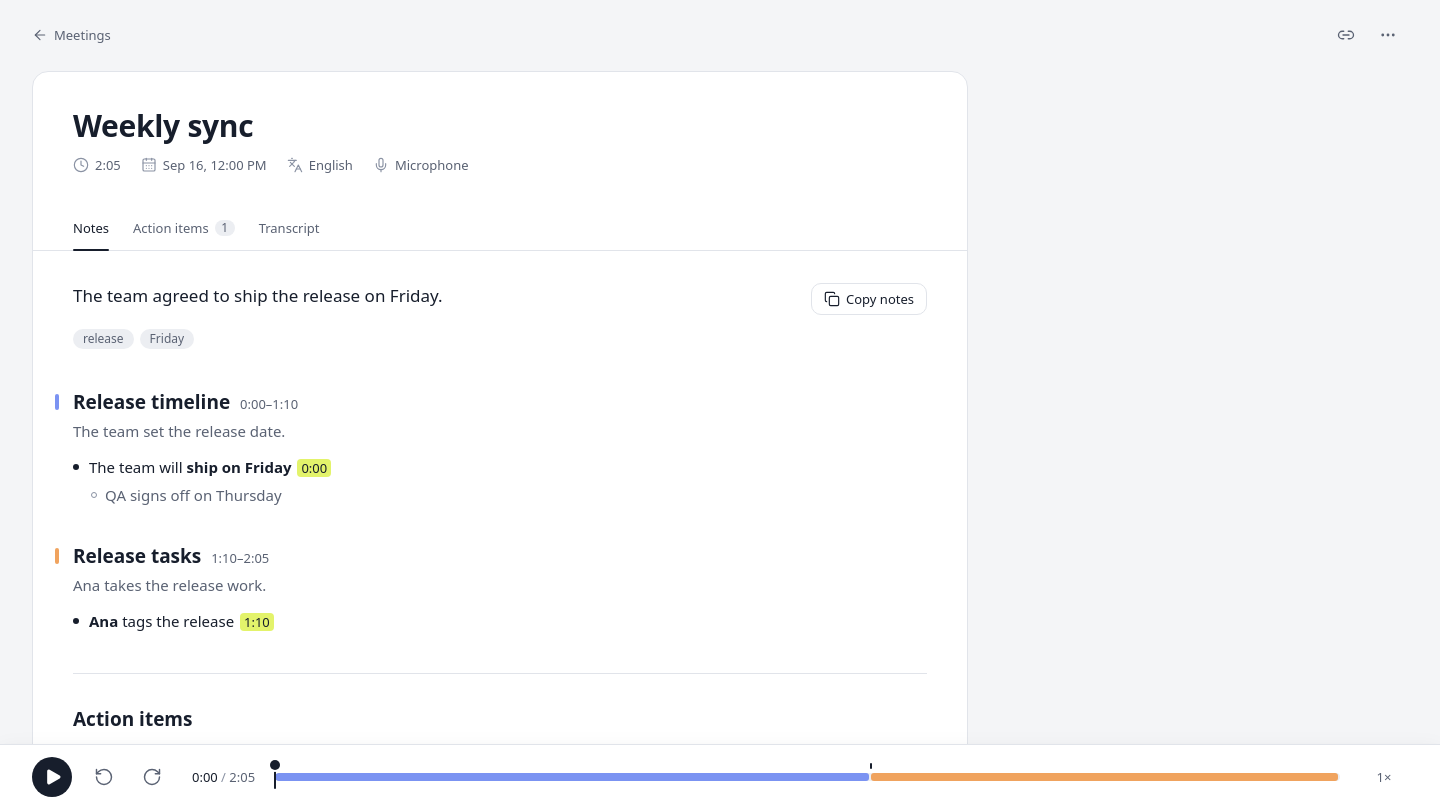
Test: MeetingPage › tabs › switches between notes, action items and the transcript
Click the tab "Action items 1" at x=184, y=228, box [133, 206, 235, 250]
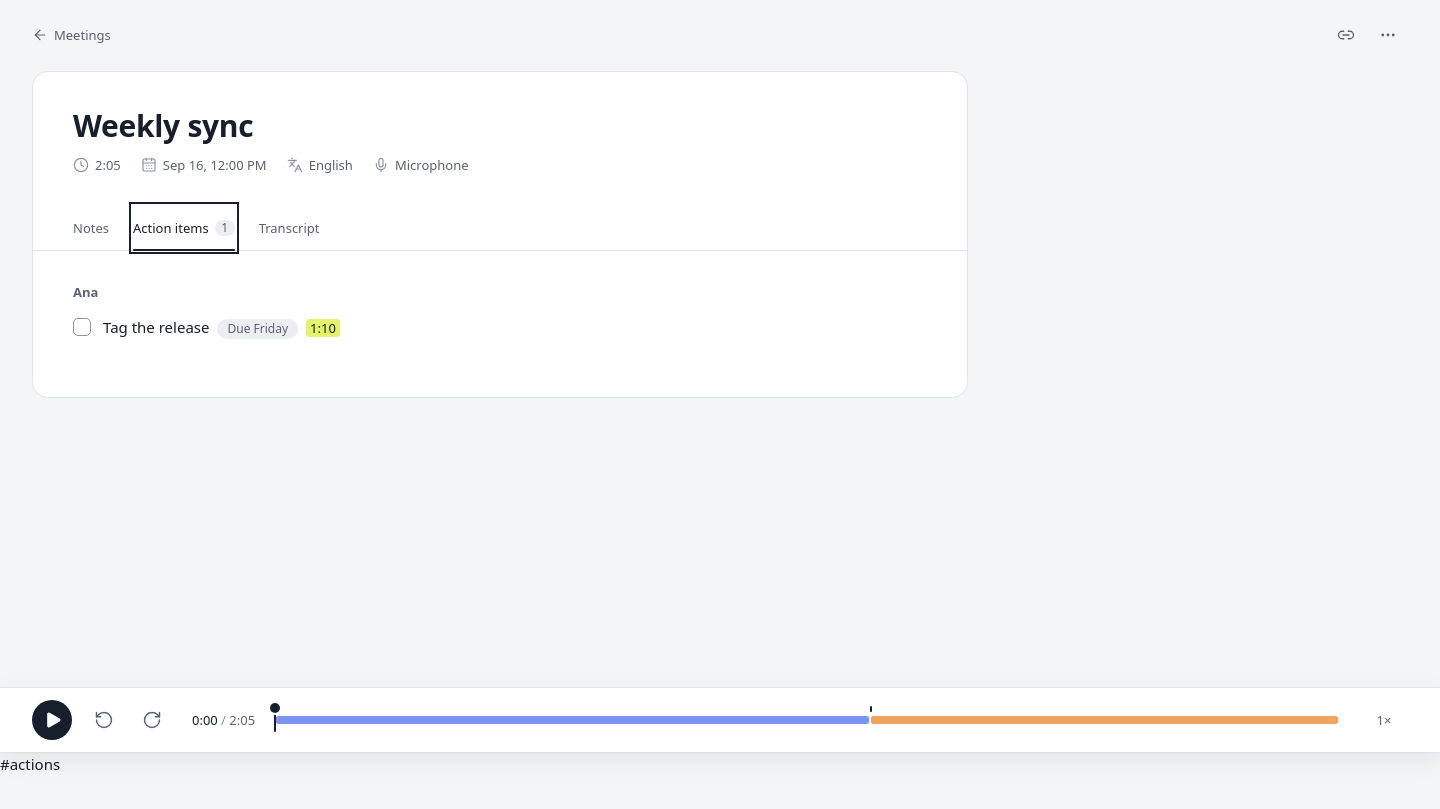
expect the text named "Hash" reads "#actions": met, box [0, 754, 60, 774]
expect the checkbox labelled "Tag the release" is shown: met, box [73, 318, 91, 336]
expect the text "The team agreed to ship the release on Friday." is gone: met
Click the tab "Transcript" at x=289, y=228, box [259, 206, 320, 250]
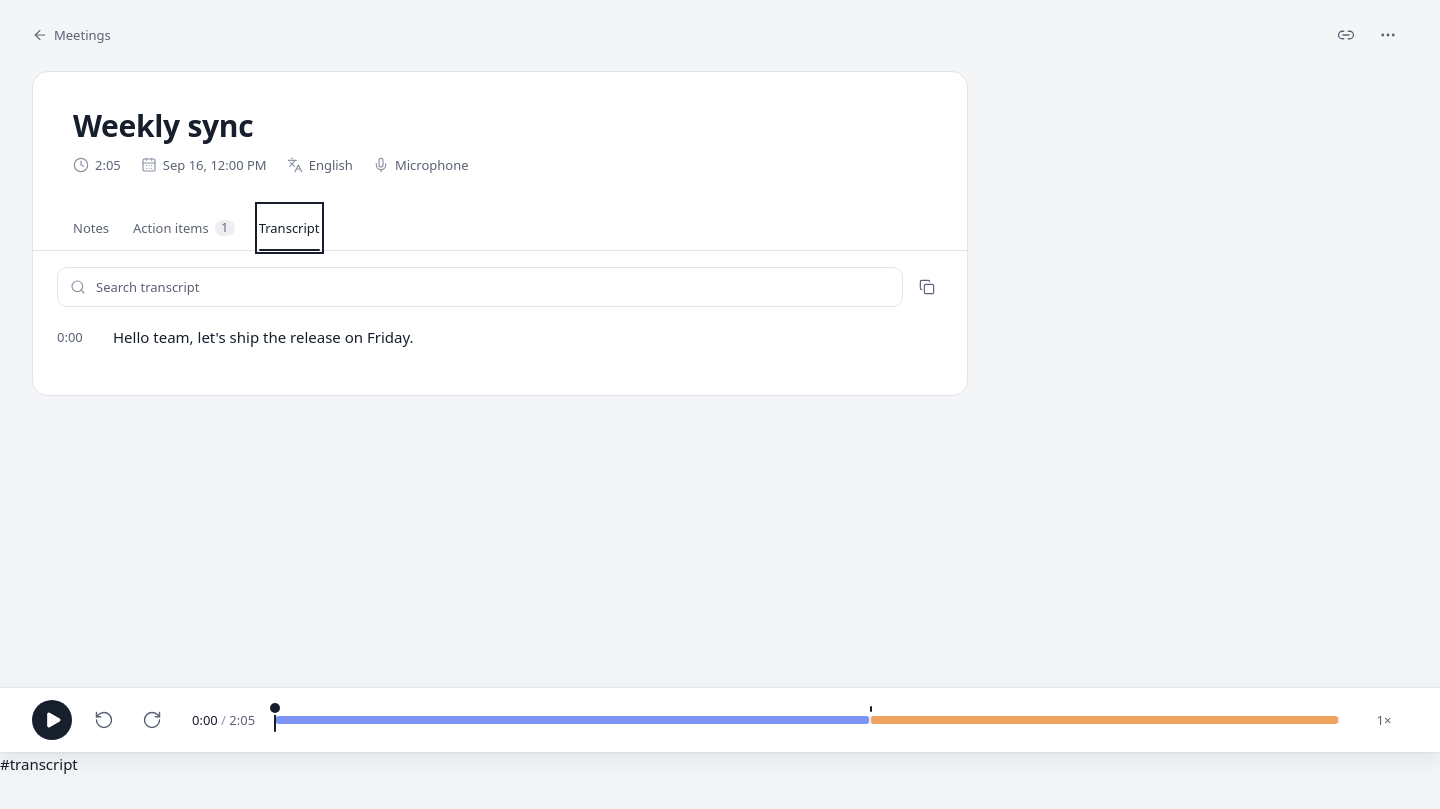
expect the text named "Hash" reads "#transcript": met, box [0, 754, 78, 774]
expect the search field is shown: met, box [90, 268, 898, 306]
Click the tab "Notes" at x=91, y=228, box [73, 206, 109, 250]
(page scrolled)
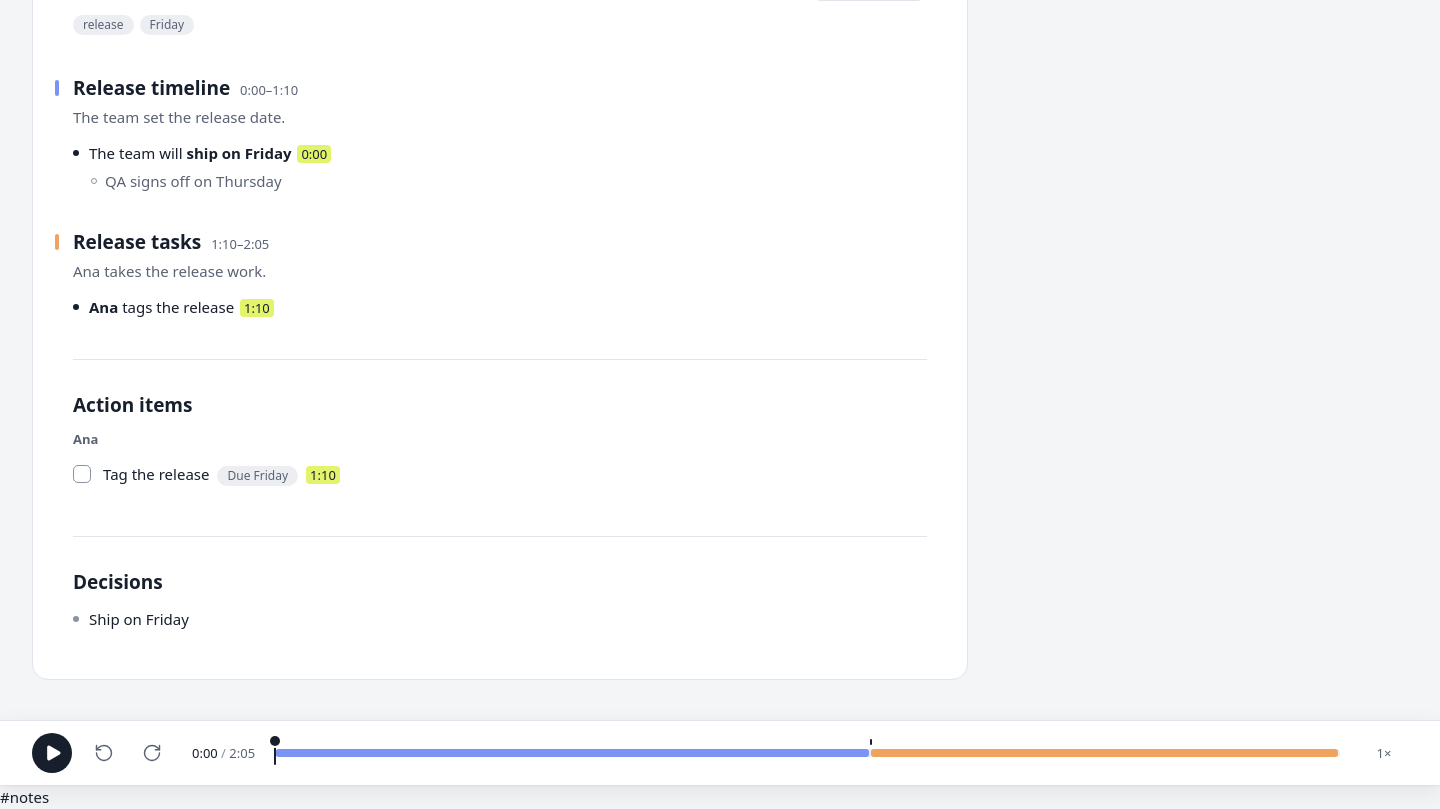
expect the text named "Hash" reads "#notes": met, box [0, 787, 49, 807]
